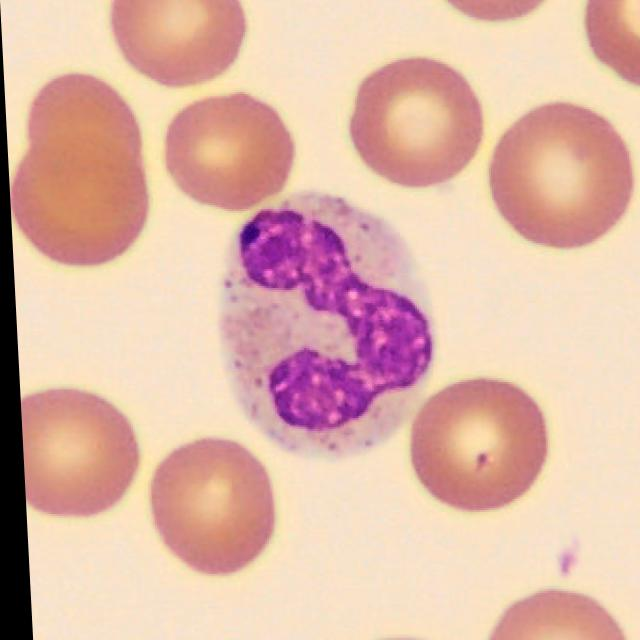Neutrofilo segmentado: (217, 190, 432, 459)
